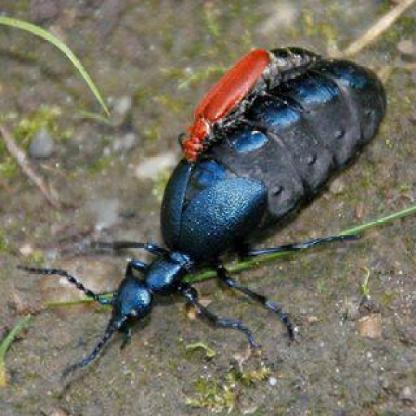beetle: (80, 36, 387, 362), (172, 34, 316, 169)
